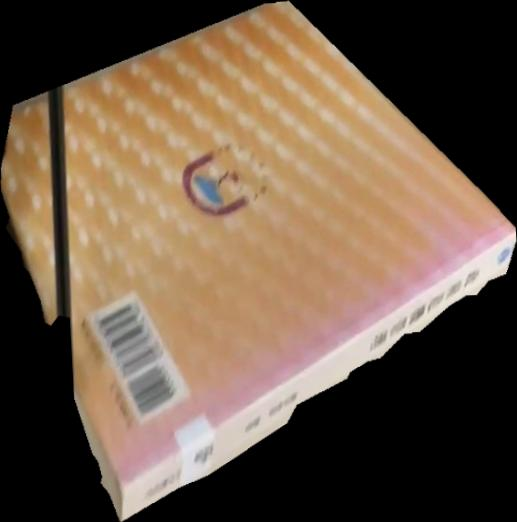flat: (1, 1, 517, 522)
